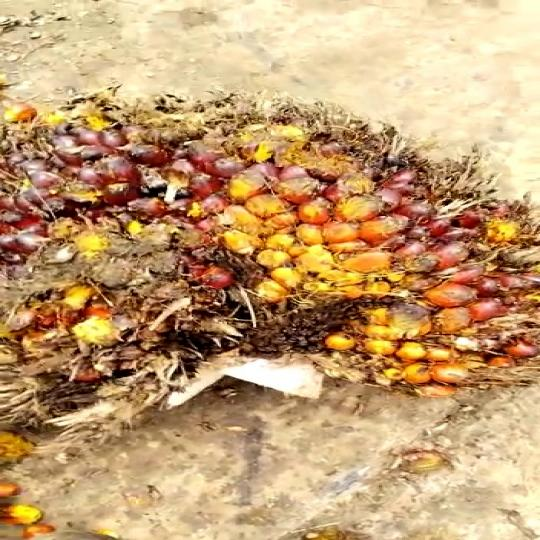masak: (0, 90, 540, 449)
